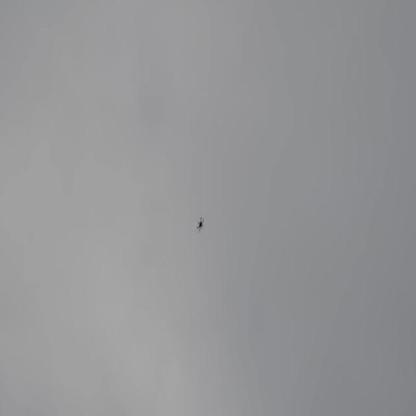drone: (194, 215, 207, 235)
